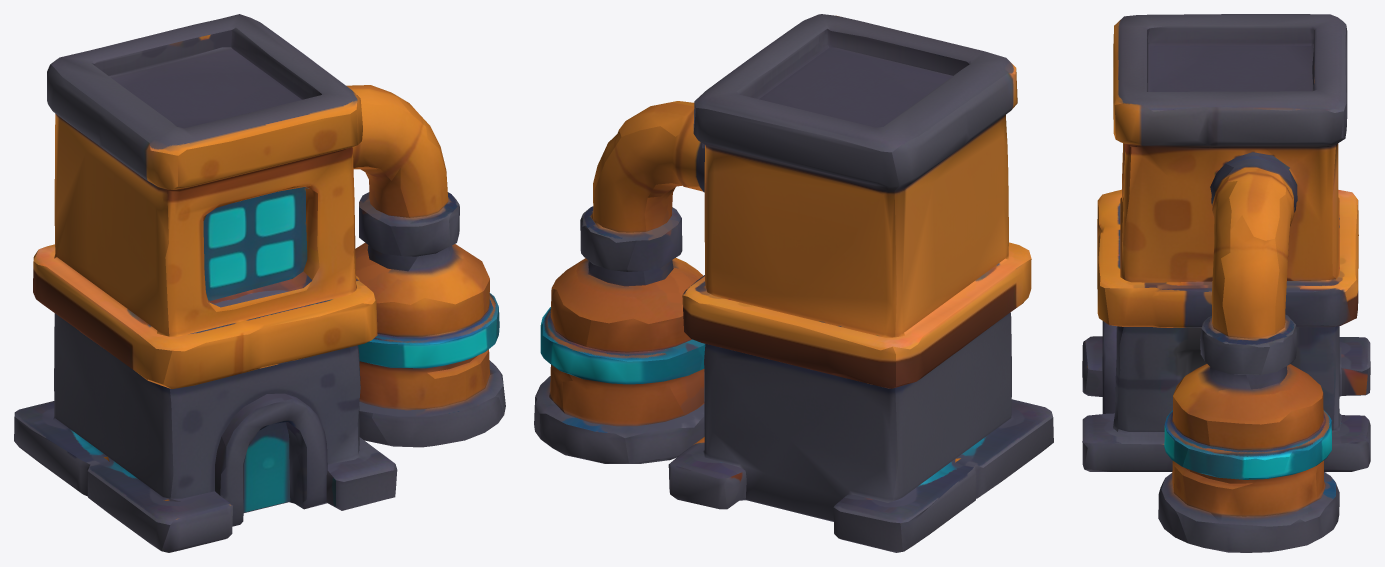
File: Environment 2.fbx
3 renders of one model, left to right at view 1: azimuth 30°, elevation 25°; view 2: azimuth 150°, elevation 25°; view 3: azimuth 270°, elevation 25°, orthographic. The views are drawn at different scales.
Visible parts, largest first — view 1: tmpjygfg_sc.ply; view 2: tmpjygfg_sc.ply; view 3: tmpjygfg_sc.ply.
Boxes of the visible parts, left/top/right/bottom form: tmpjygfg_sc.ply: left=14, top=14, right=505, bottom=552; tmpjygfg_sc.ply: left=534, top=14, right=1053, bottom=552; tmpjygfg_sc.ply: left=1082, top=14, right=1370, bottom=552.
Bounding box in the file's own units: 199 × 178 × 128.
1 material, 1 textured.
